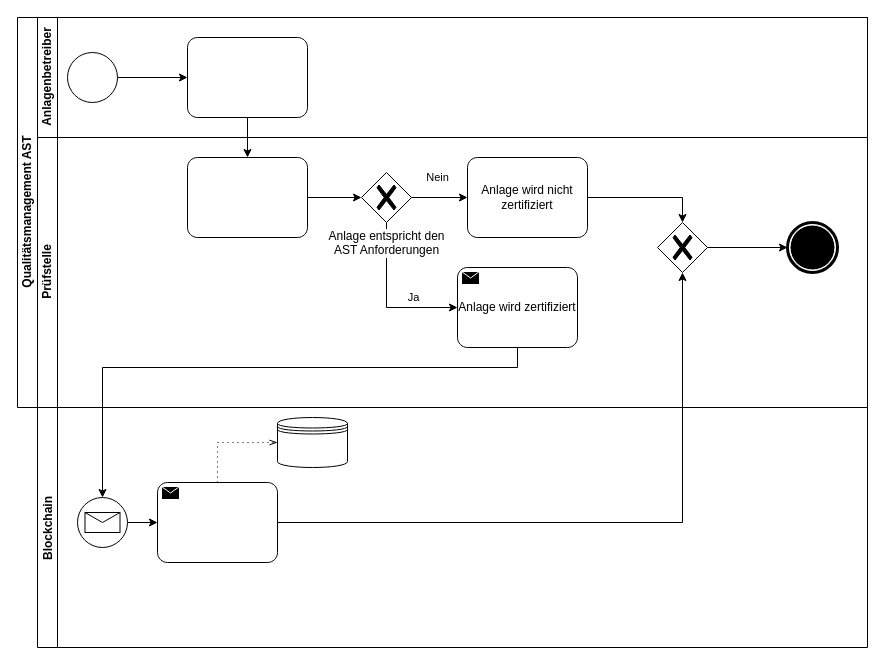
Image size: 885x665. Some labels were removed from this diagram. The shapes that lost their labels are listed below. From the top down, each one's centre as x and y in pixels, then its label:
point (247, 77): Anlagenbetreiber betreibt Sensorik
point (247, 197): Prüfstelle prüft Anlage nach AST
point (217, 522): Zertifikat der Sensorik wird auf dem Ledger gespeichert
